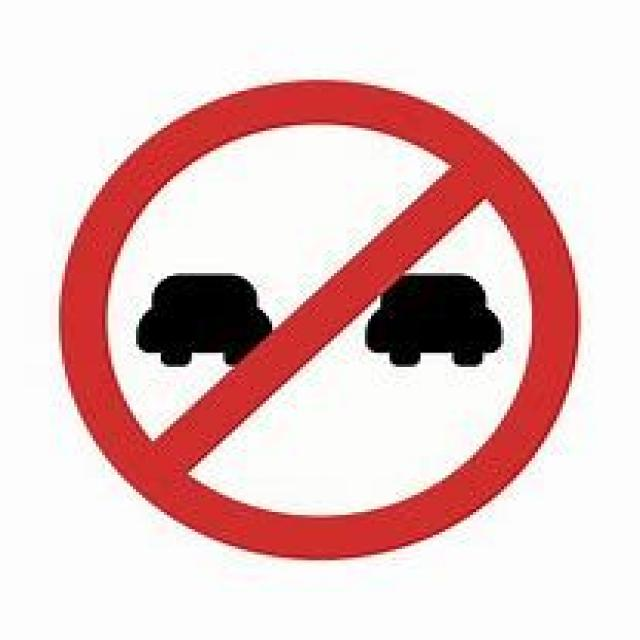OVERTAKING_PROHIBITED: (56, 80, 575, 558)
